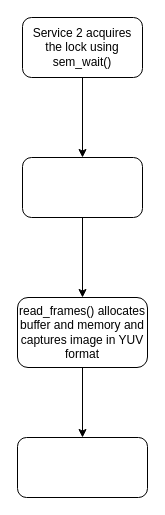
The diagram is 165 pixels wide and 515 high, and some of its shapes have lost their labels. Here are the shapes that lost their labels. From the top down, the centre of each, then its label:
At (82,187): "mainloop() is called which sets the delay to 30000ns to read frames".
At (82,467): "process_image() formats the image from YUV to RGB and stores in the buffer".
